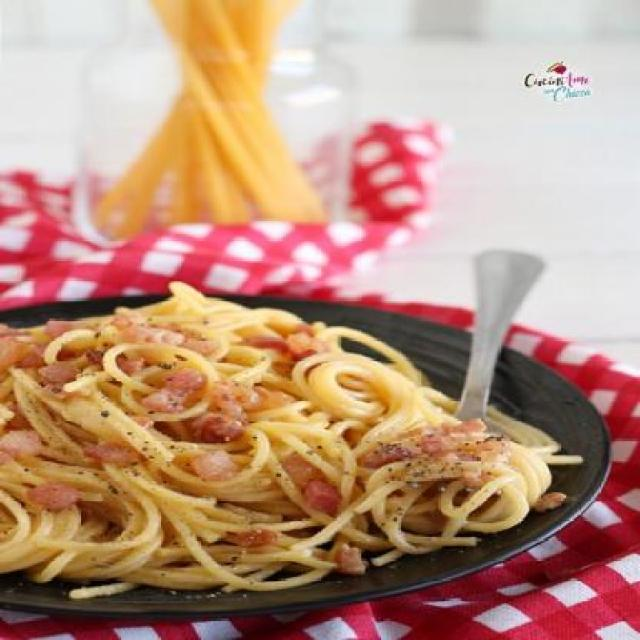Pasta with carbonara sauce: (7, 235, 595, 620)
